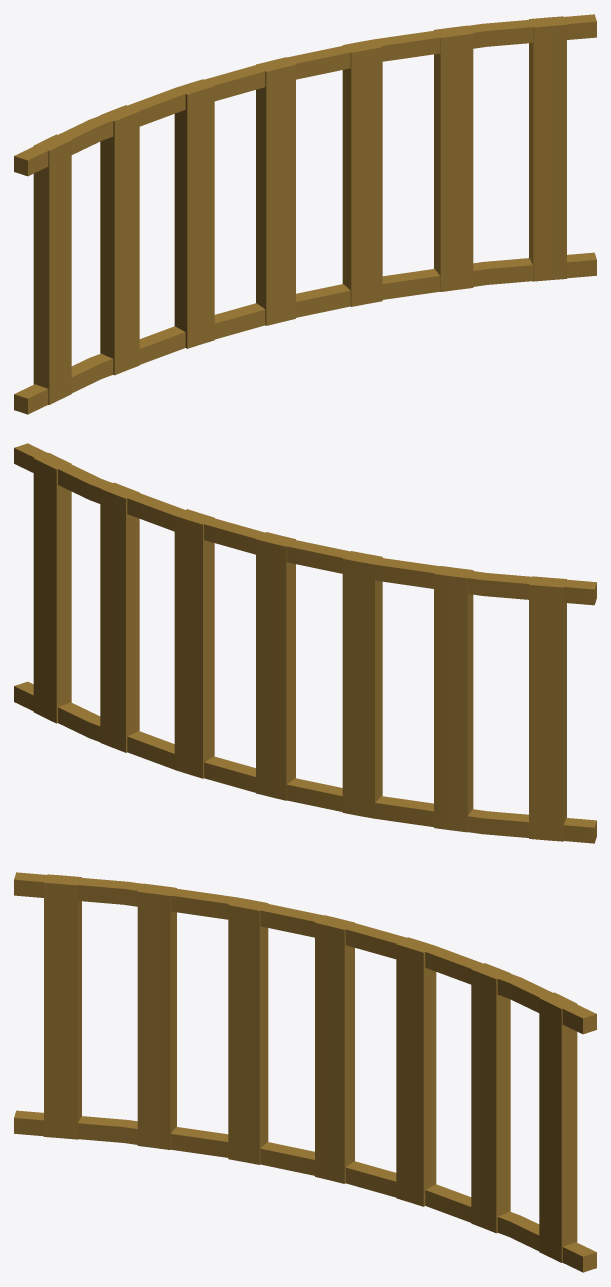
File: curve_rail.glb
The picture shows the model from 3 angles, top to bottom: view 1: azimuth 30°, elevation 25°; view 2: azimuth 150°, elevation 25°; view 3: azimuth 330°, elevation 25°; orthographic projection.
Parts seen in each view (by area): view 1: sw5e_int_curve_rail; view 2: sw5e_int_curve_rail; view 3: sw5e_int_curve_rail.
Part boxes in pixels (bbox=[...]): sw5e_int_curve_rail: bbox=[14, 14, 596, 414]; sw5e_int_curve_rail: bbox=[14, 443, 596, 843]; sw5e_int_curve_rail: bbox=[14, 872, 596, 1272].
Size of the model in its own units: 2.3 by 0.96 by 0.2838.
